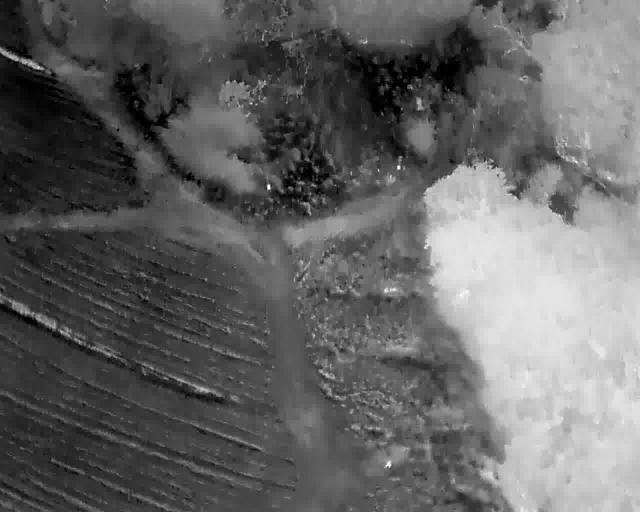person: (383, 460, 392, 468)
